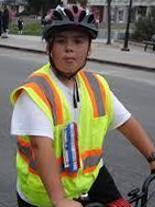Vest: (15, 69, 109, 200)
